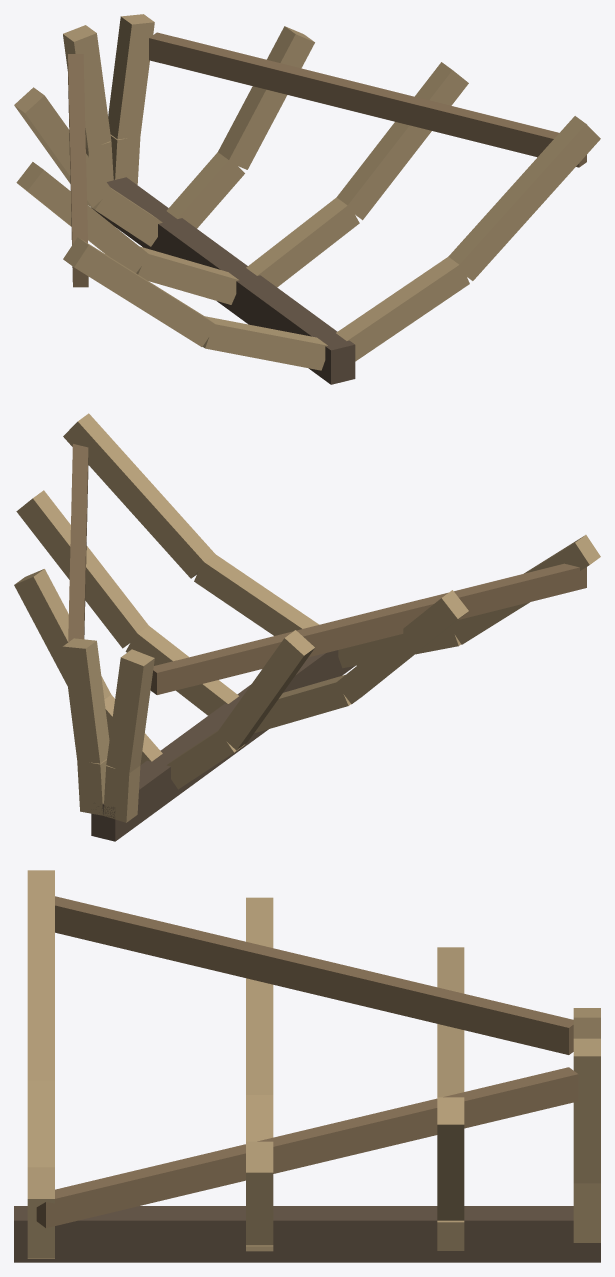
File: SW_BowRibs.fbx
3 views of the same model, one above another, from view 1: azimuth 30°, elevation 25°; view 2: azimuth 150°, elevation 25°; view 3: azimuth 270°, elevation 25° (orthographic). The views are drawn at different scales.
Visible parts, largest first — view 1: SW_BowRibs; view 2: SW_BowRibs; view 3: SW_BowRibs.
Part boxes in pixels (<box>): SW_BowRibs: <box>14,14,600,384</box>; SW_BowRibs: <box>14,413,600,841</box>; SW_BowRibs: <box>14,870,600,1262</box>.
Size of the model in its own units: 5.45 by 1.91 by 4.3.
